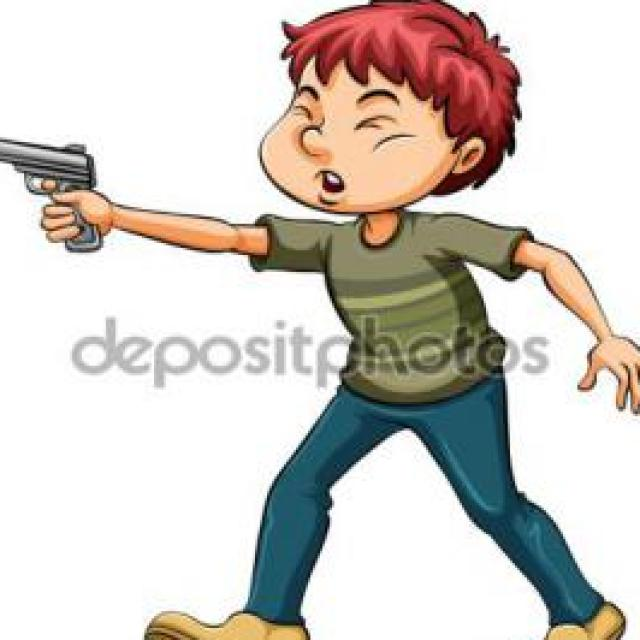pistol: (0, 128, 113, 255)
